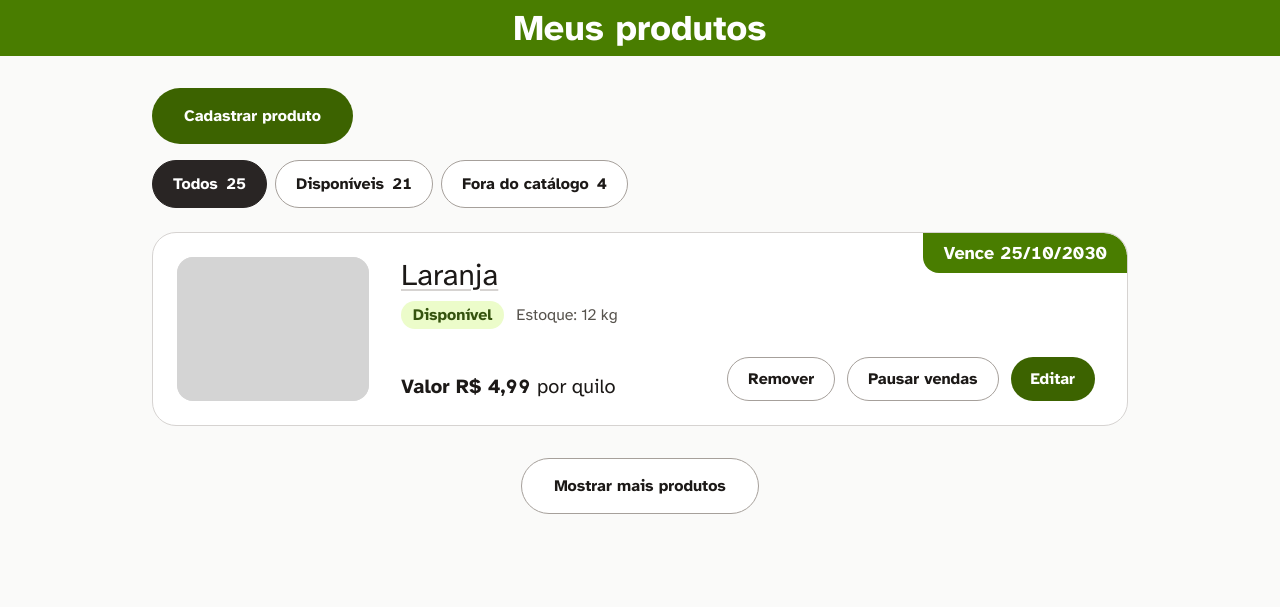
Test: MyProducts, pages › takes a removed product out of the counts
Click the button "Remover" at (781, 379), box [727, 357, 835, 401]
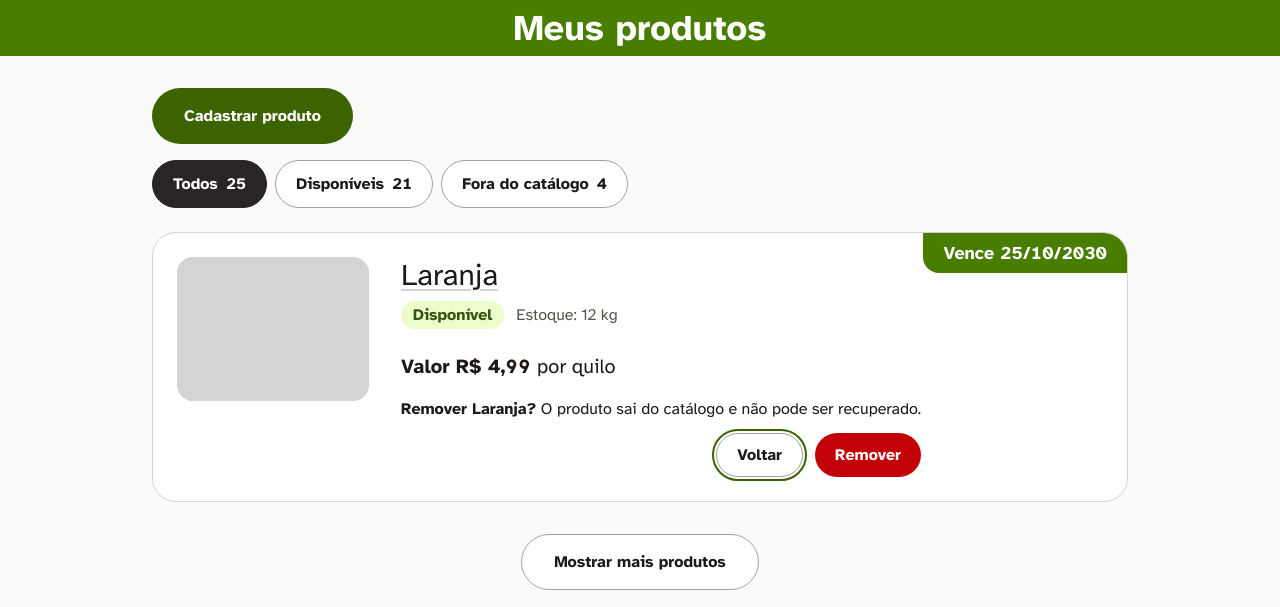
Click the button "Remover" at (868, 455), box [815, 433, 921, 477]
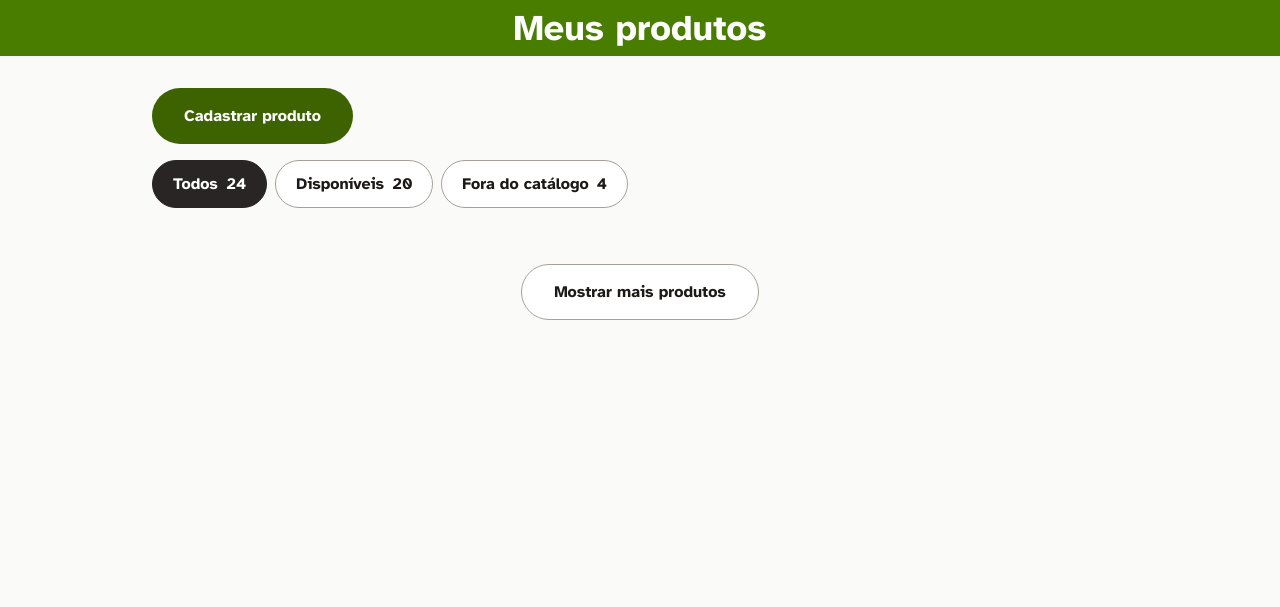
expect the link "Laranja" is gone: met
expect the button "Todos 24" is shown: met, box [152, 160, 267, 208]
expect the button "Disponíveis 20" is shown: met, box [275, 160, 433, 208]
